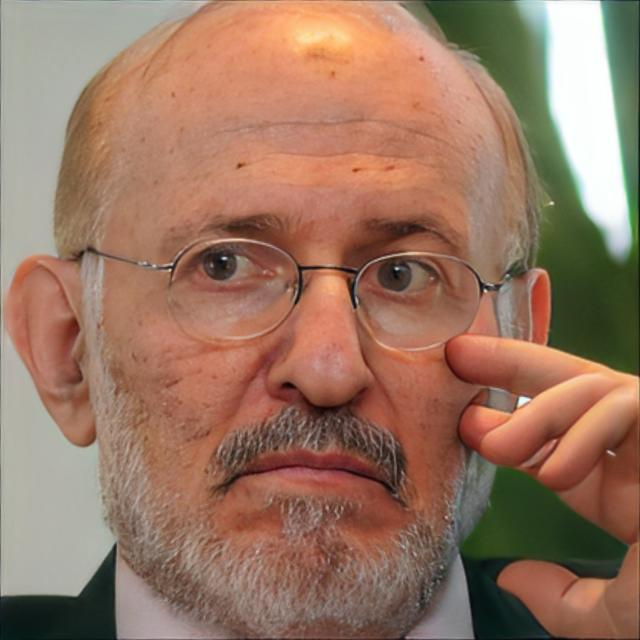neutral: (98, 57, 500, 640)
